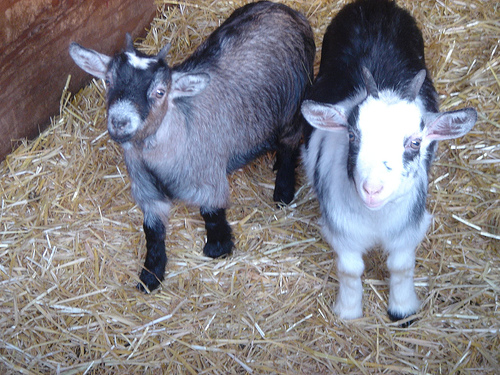goat: (66, 1, 318, 291), (299, 1, 479, 330)
